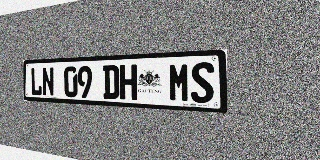0: (64, 66, 77, 97)
9: (78, 66, 92, 98)
D: (103, 65, 119, 99)
H: (119, 64, 137, 100)
L: (30, 67, 42, 96)
M: (169, 63, 190, 102)
N: (42, 67, 54, 96)
S: (191, 62, 214, 103)
